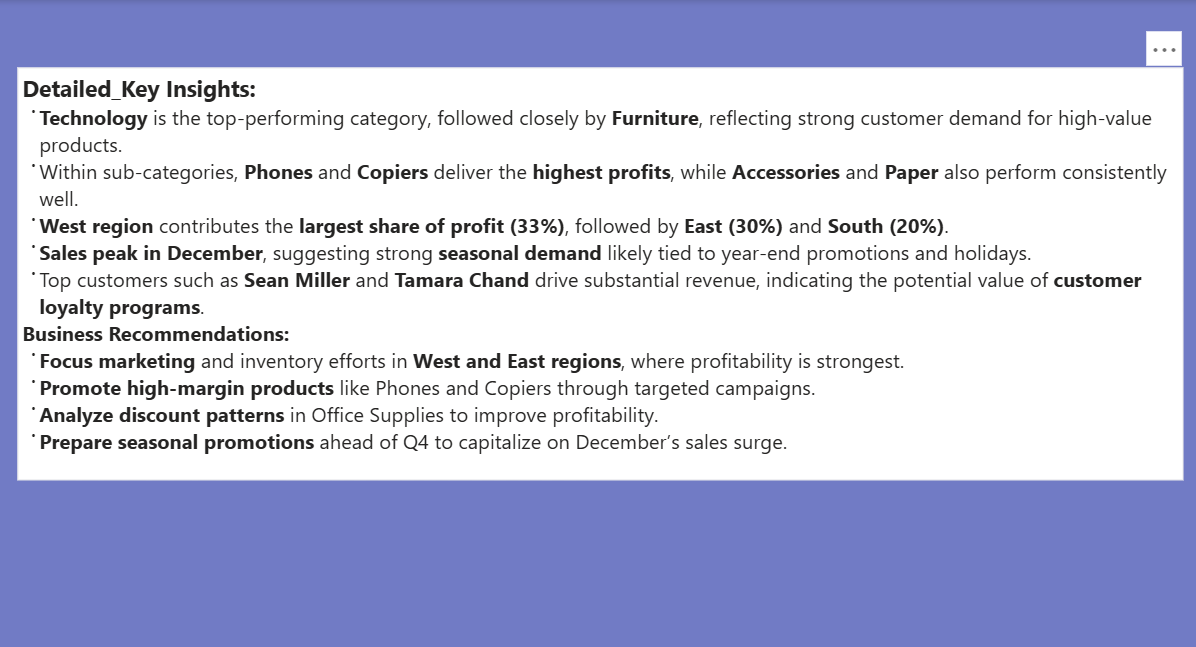

This screenshot's page, from the dashboard's own definition file:
{"tool":"powerbi","page":{"name":"Summary page","canvas":[1280,720],"ordinal":1},"visuals":[{"type":"textbox","box":[27,71.6,1235.9,437.4],"z":0}]}

Visuals, with their boxes on the page's 1280x720 design canvas (x1, y1, x2, y2). These are canvas units, not pixel positions in the 1196x647 screenshot, which may show the page scaled, cropped or inside an application window:
textbox: <bbox>27, 72, 1263, 509</bbox>
